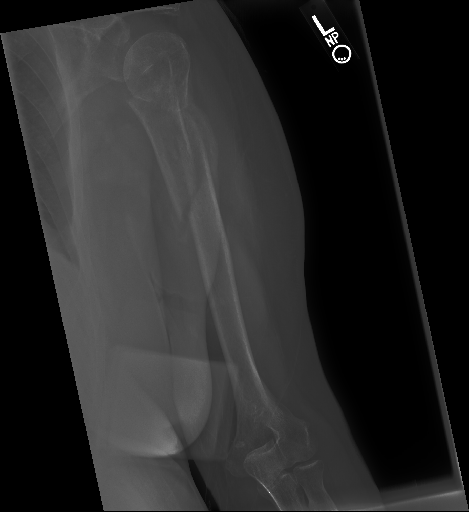fracture: (163, 134, 223, 236), (192, 218, 243, 313)
